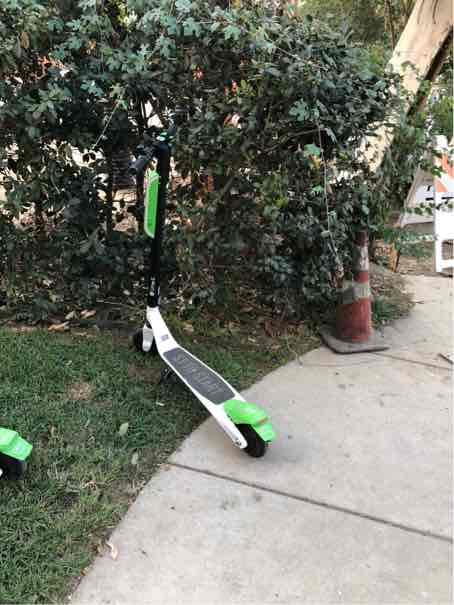scooter: (110, 108, 284, 475)
